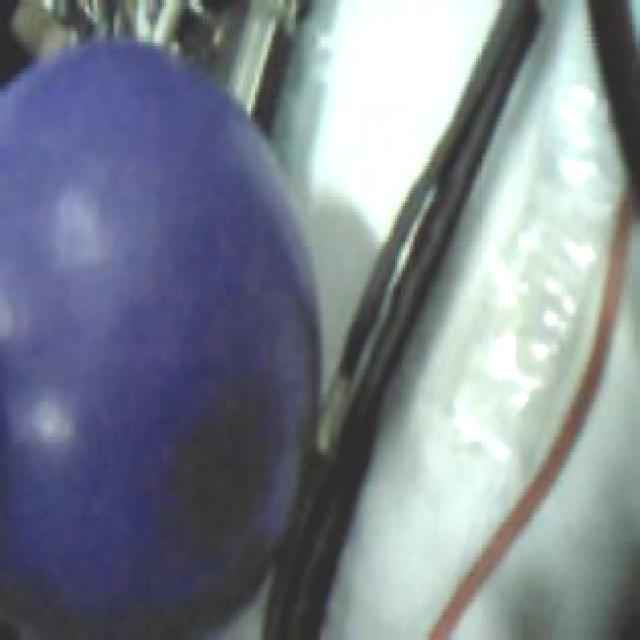BallPurple: (0, 40, 322, 632)
